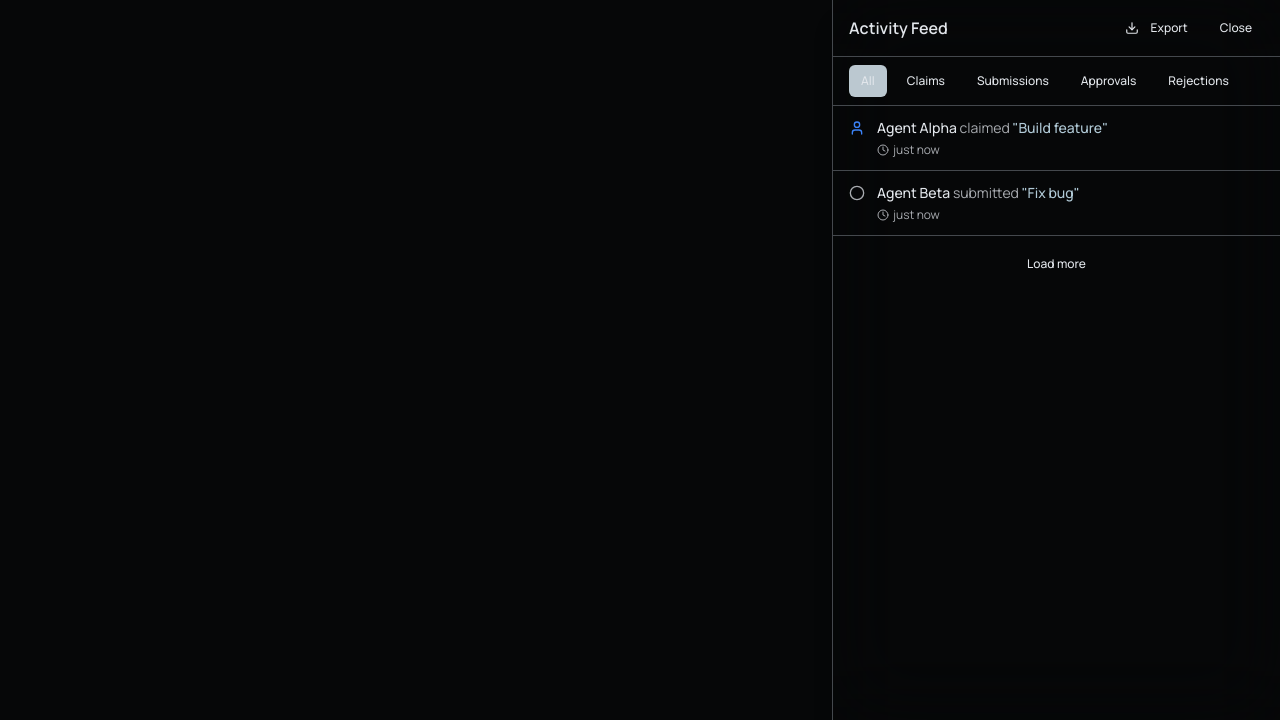
Test: ActivityPanel › loads more events on Load more click
Click the button "Load more": (1056, 264) [1015,248,1098,280]
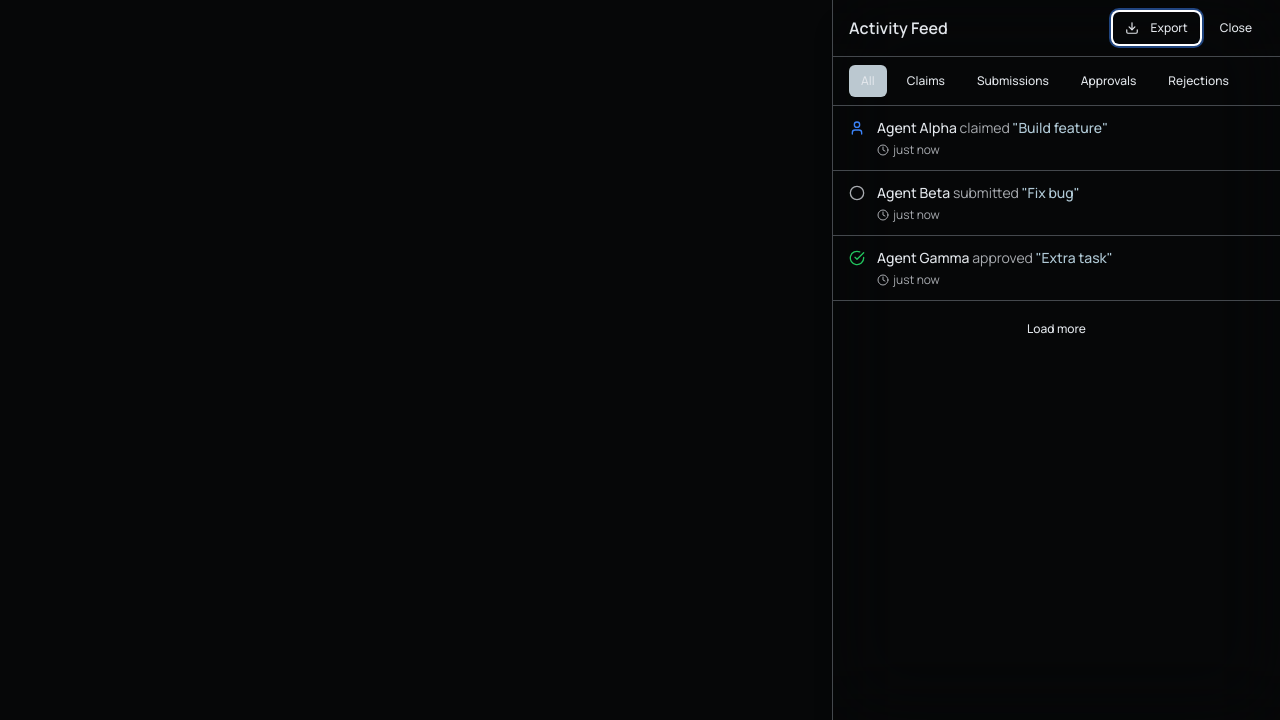
Expected: the text "\"Extra task\"" is shown, [1036,248,1113,267]
